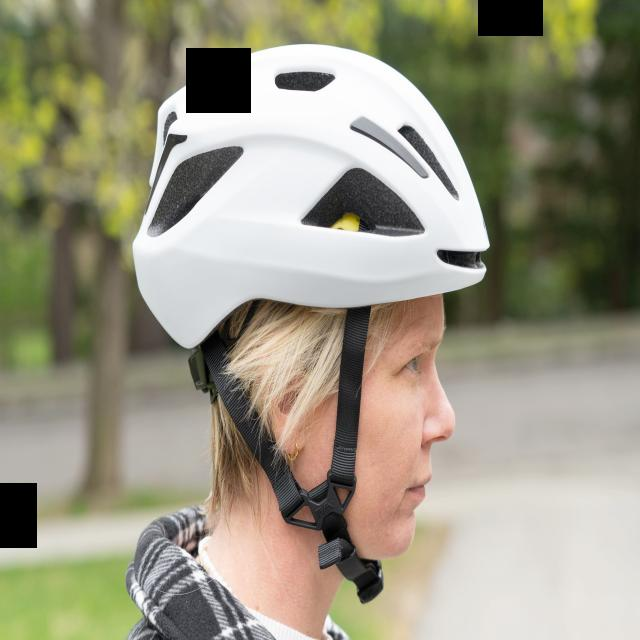Helmet: (128, 42, 508, 365)
